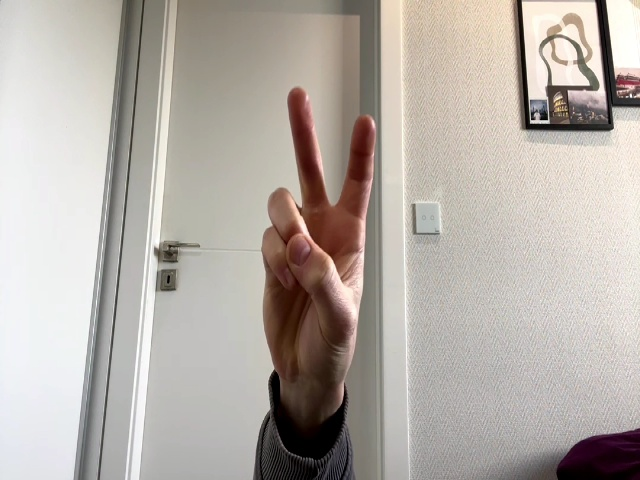H: (263, 87, 377, 407)
